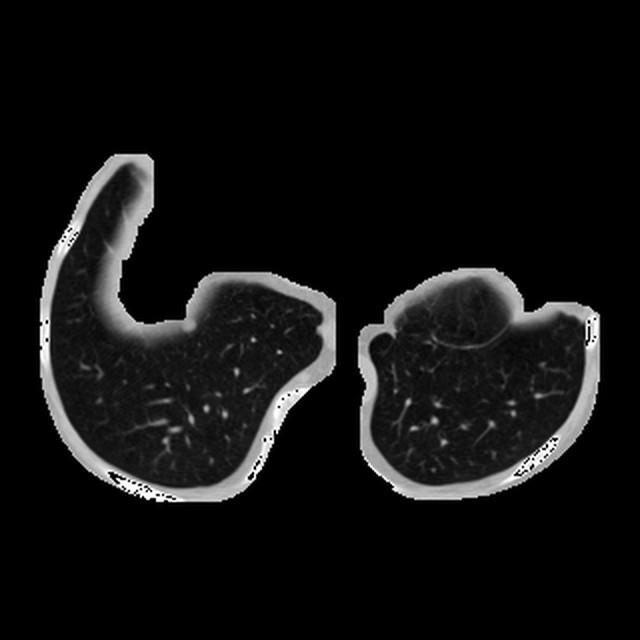PN: (180, 316, 196, 332)
